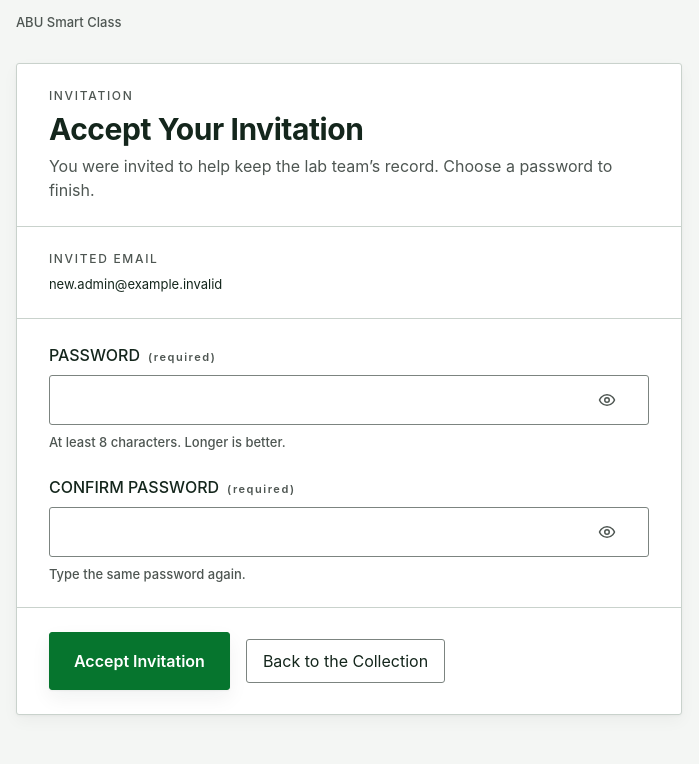
app/admin/invite/accept/page (S-007) › handles backend 404 with unknown-token error banner
In the password field labelled "PASSWORD": (349, 400) [49,375,649,425], type "ValidPass123"
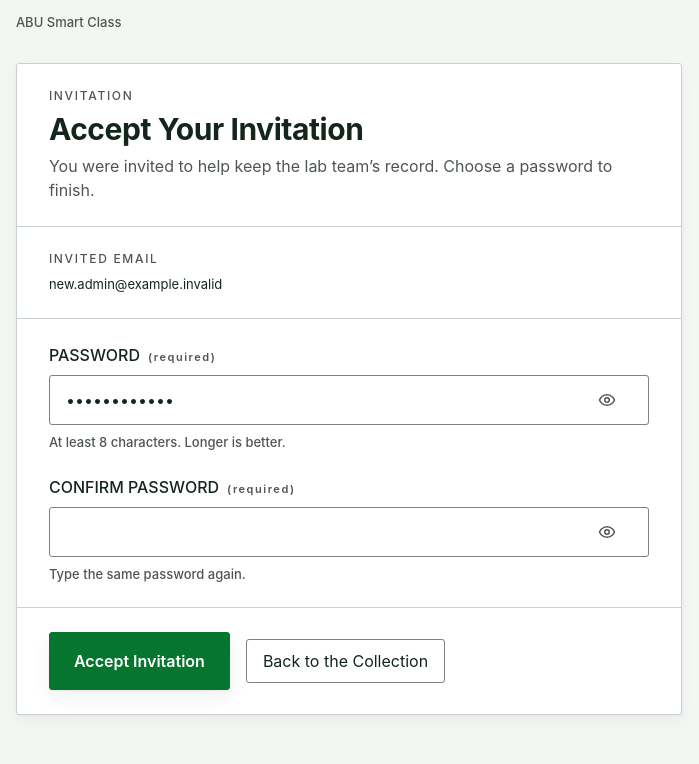
In the password field labelled "CONFIRM PASSWORD": (349, 532) [49,507,649,557], type "ValidPass123"
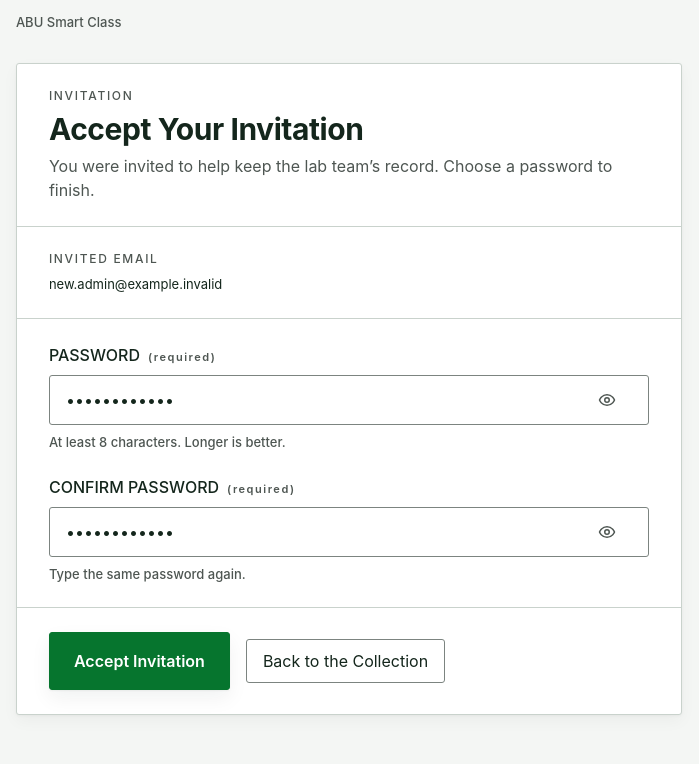
Click the button "Accept Invitation": (139, 662) [49,632,230,690]
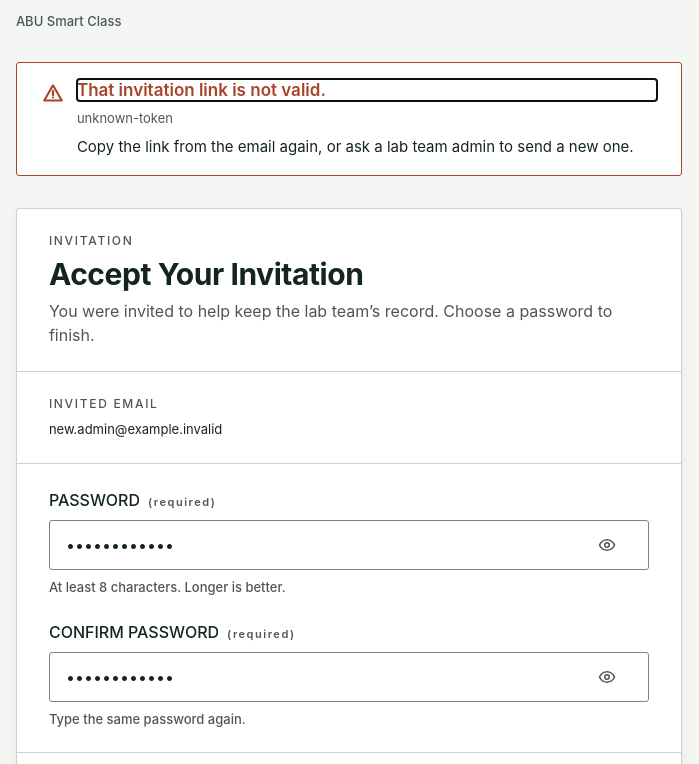
Now the heading "That invitation link is not valid." is shown, box [77,80,326,100]
Now the text "unknown-token" is shown, box [77,110,173,126]
